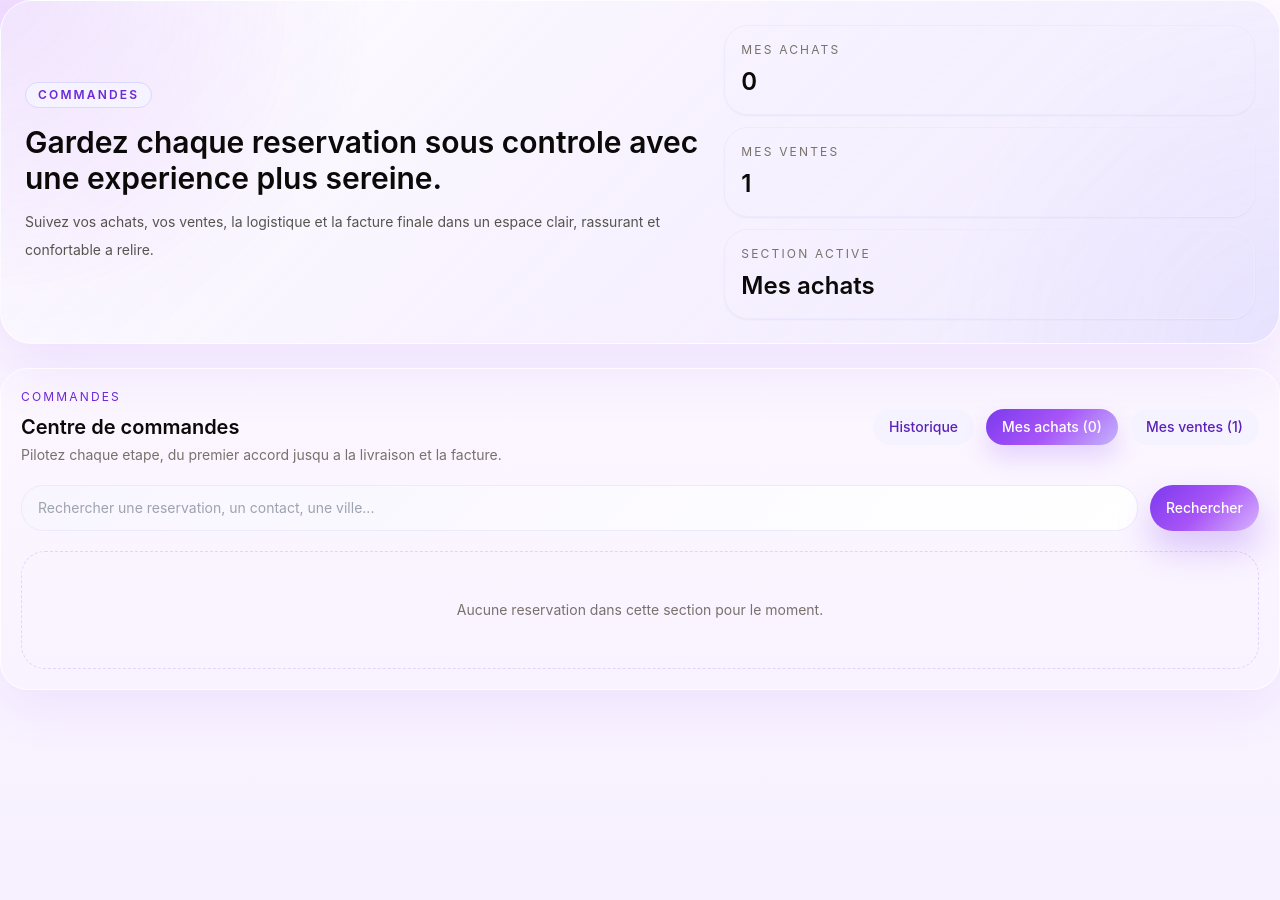
Scenario: ReservationsPage › permet au vendeur d approuver une reservation
Expected: the heading "Centre de commandes" is shown, [21, 415, 239, 439]
Click the button "Mes ventes (1)" at (1194, 427), box [1130, 409, 1259, 445]
(page scrolled)
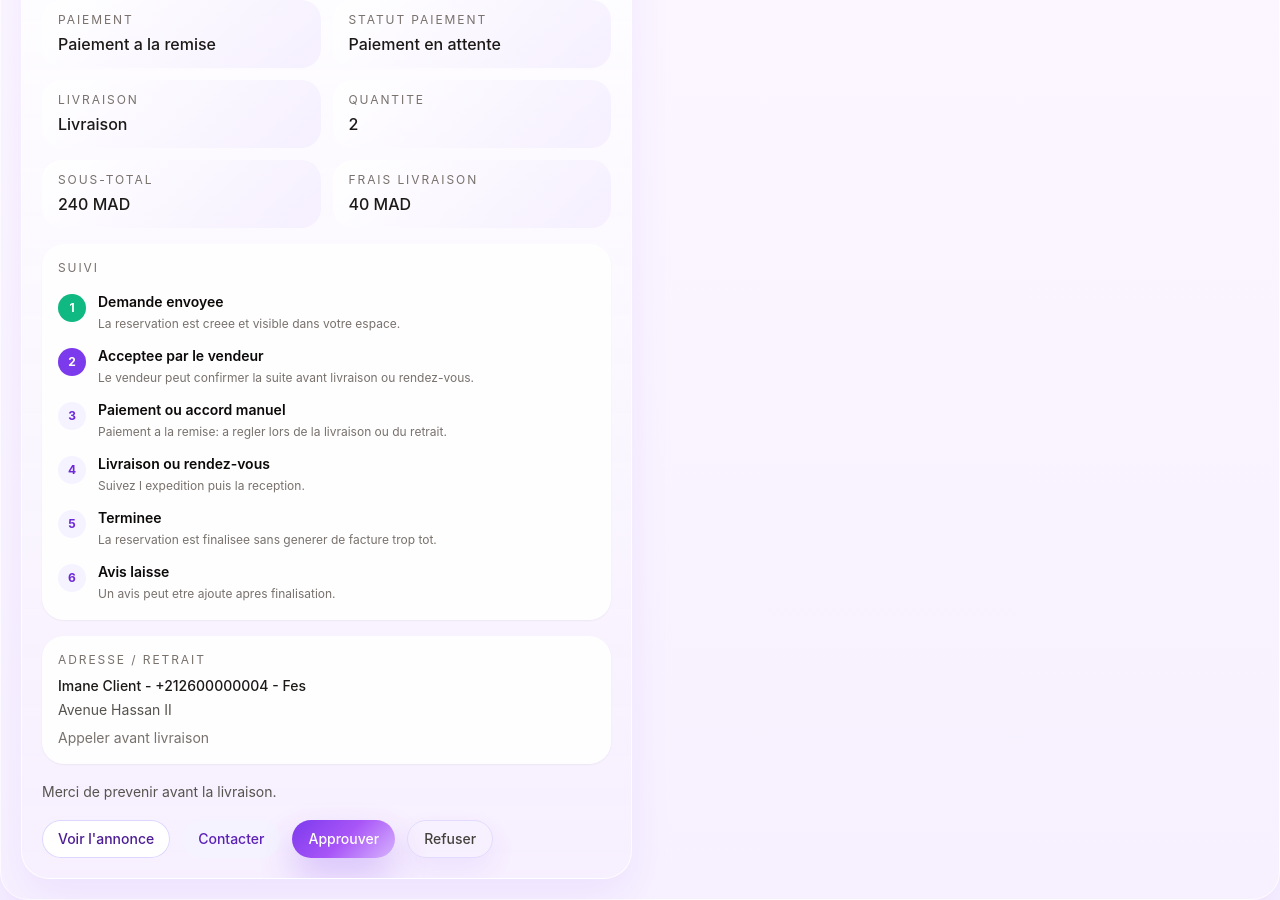
Expected: the text "Suivi" is shown, [58, 260, 99, 275]
Expected: the text "Demande envoyee" is shown, [98, 293, 224, 310]
Expected: the text "Paiement a la remise: a regler lors de la livraison ou du retrait." is shown, [98, 422, 447, 442]
Click the button "Approuver" at (344, 839), box [292, 820, 395, 858]
(page scrolled)
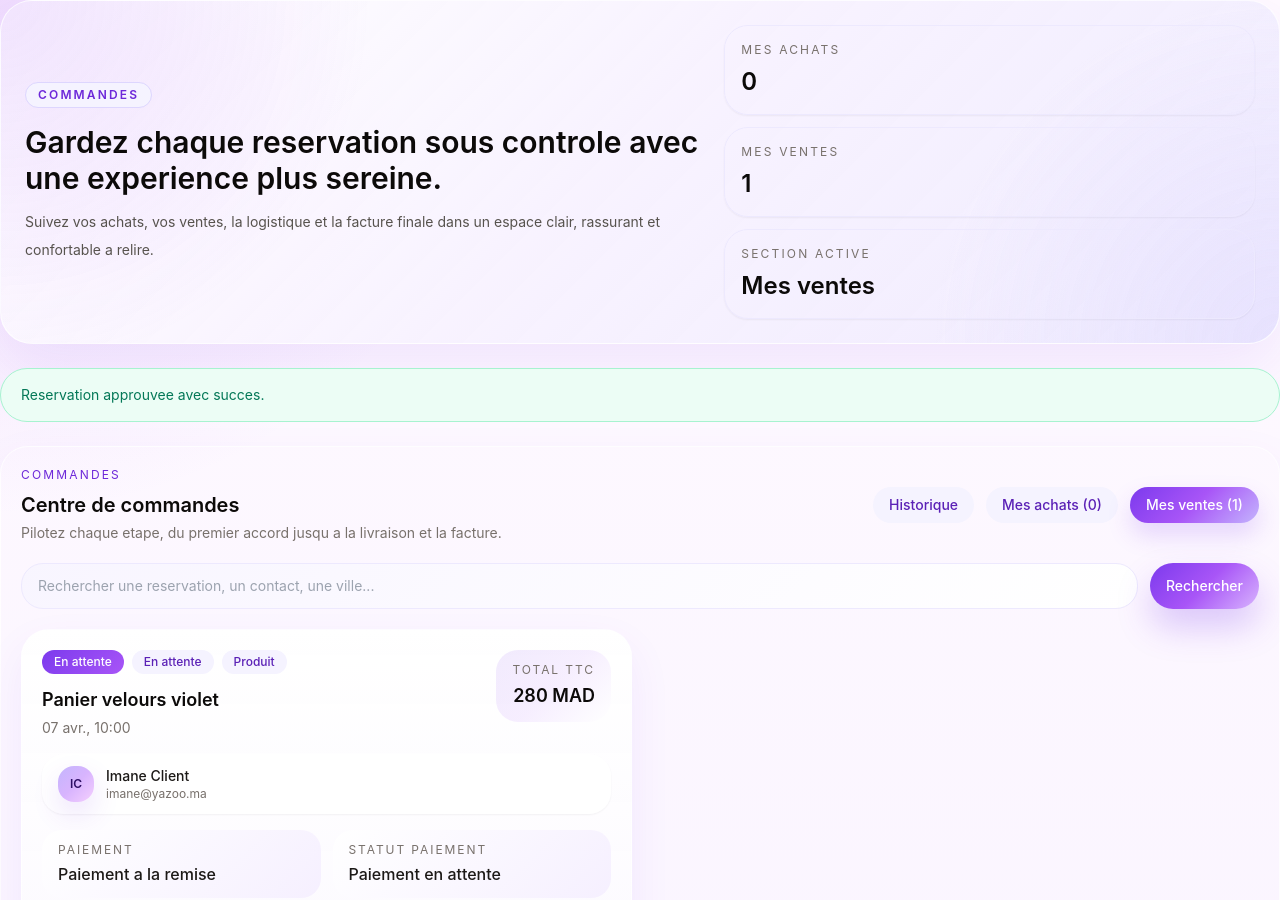
Expected: the text "Reservation approuvee avec succes." is shown, [0, 368, 1279, 422]
